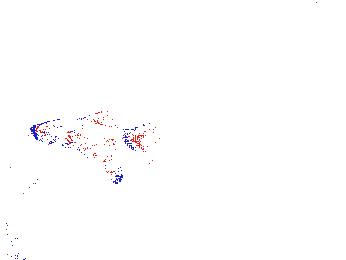X-ray fish: (99, 153, 126, 185)
redtail glassfish: (28, 115, 154, 161), (1, 173, 35, 258)
